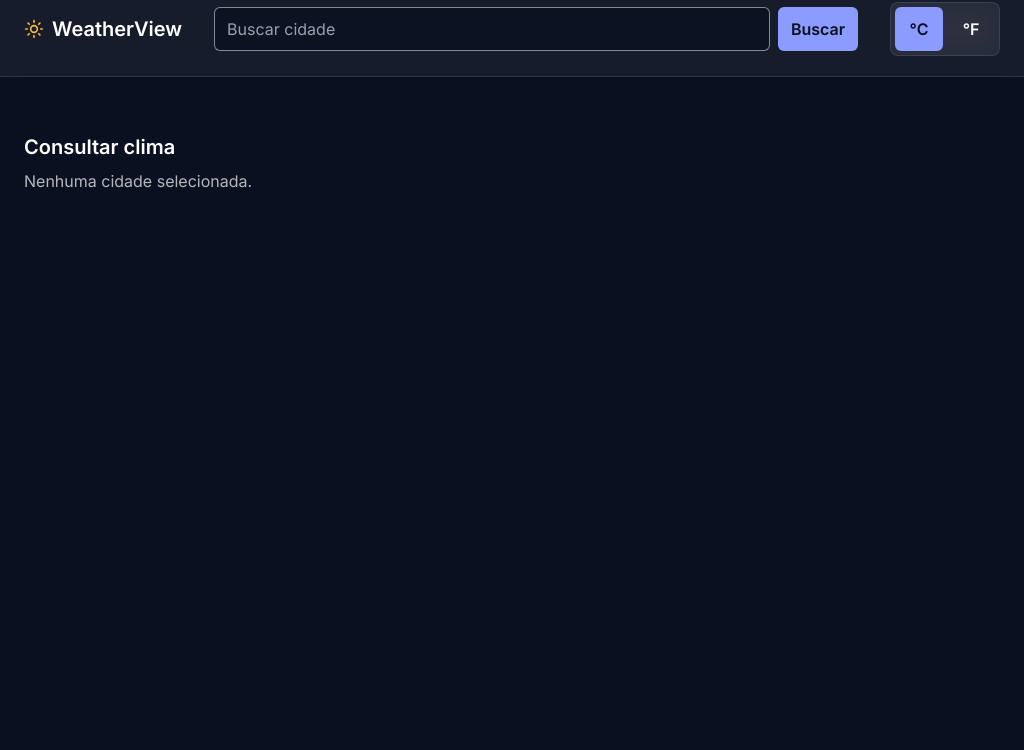
Test: App › repete a consulta original após erro e mantém a cidade identificada
In the search field: [492, 29] box [214,7,770,51], type "Curitiba"
Then press Enter
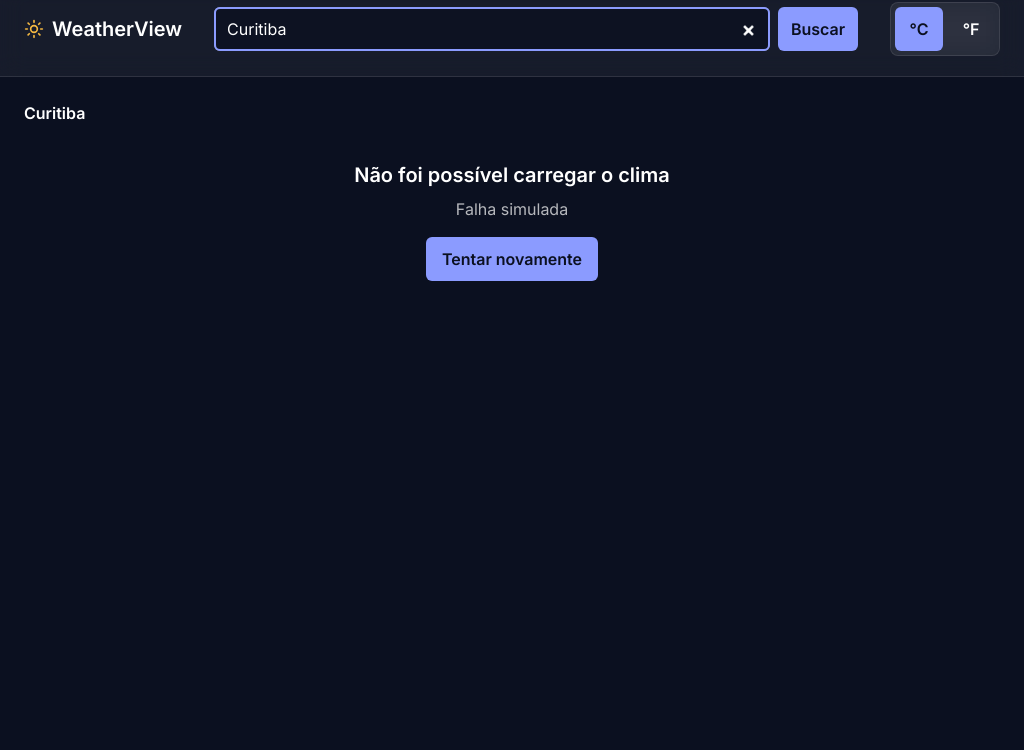
Now the message "Não foi possível carregar o clima Falha simulada" is shown, box [354,161,670,221]
Now the text "Curitiba" is shown, box [24,103,85,123]
Click the button "Tentar novamente": [512, 259] box [426,237,598,281]
(page scrolled)
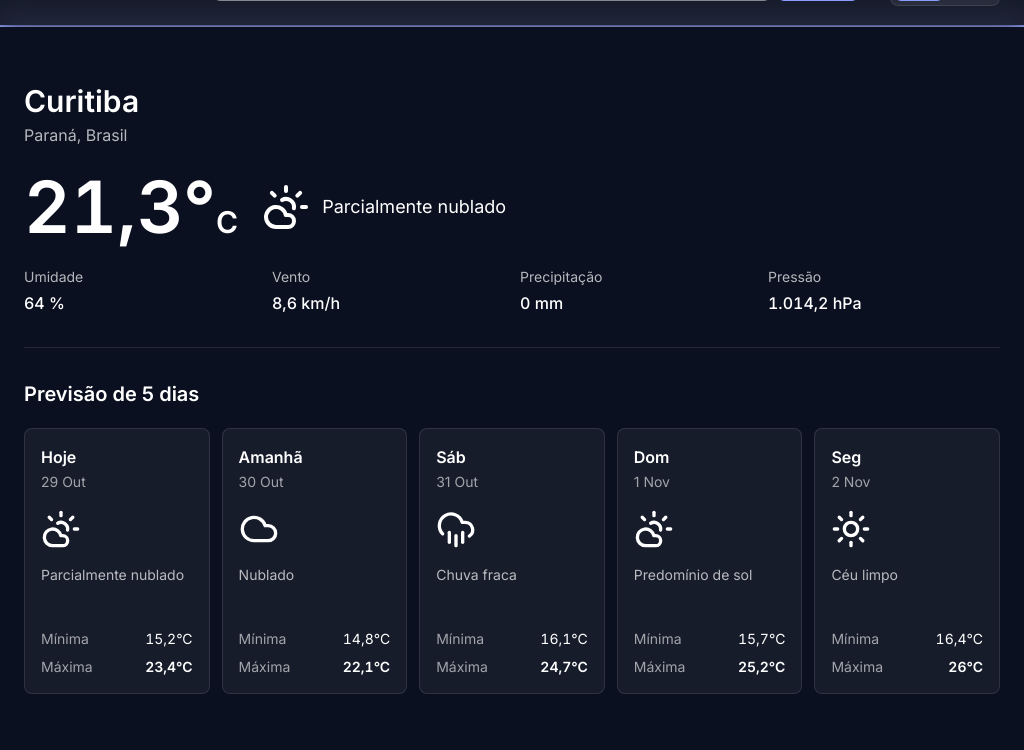
Now the element named "Temperatura atual" is shown, box [24,171,238,243]
Now the message "Não foi possível carregar o clima Falha simulada" is gone
